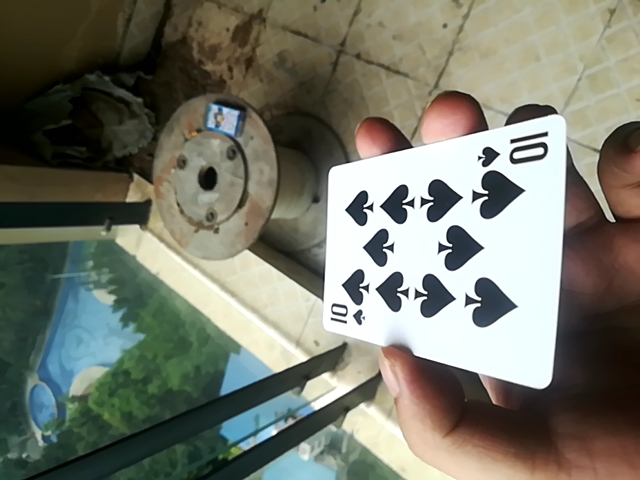ht 10: (314, 108, 568, 390)
